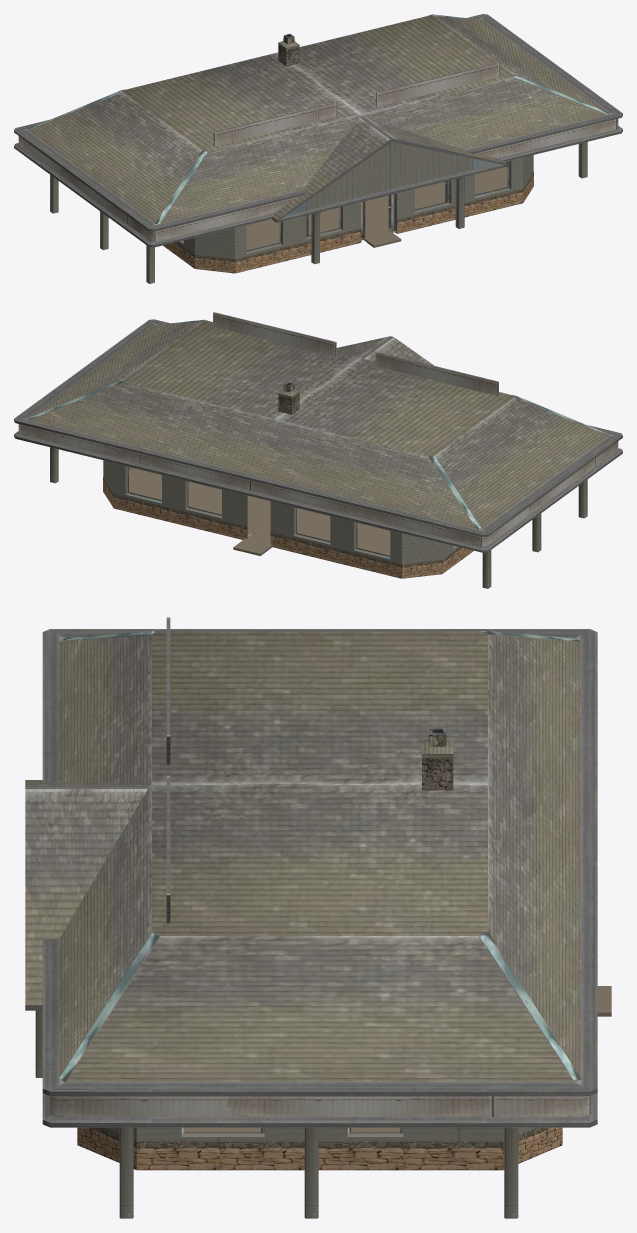
Rendered from rural-wood-4.gaps-v1.lod0.glb.
The picture shows the model from 3 angles, top to bottom: view 1: azimuth 30°, elevation 25°; view 2: azimuth 150°, elevation 25°; view 3: azimuth 270°, elevation 25°; orthographic projection. The views are drawn at different scales.
Visible parts, largest first — view 1: Rural_WoodenBuilding_4_Rural_Housetrim_1_0, Rural_WoodenBuilding_4_Rural_Walltrim_1_0, Rural_WoodenBuilding_4_Rural_Facade_FLR_2_0, Walkable floors and stairs; view 2: Rural_WoodenBuilding_4_Rural_Housetrim_1_0, Rural_WoodenBuilding_4_Rural_Facade_FLR_2_0, Rural_WoodenBuilding_4_Rural_Walltrim_1_0, Walkable floors and stairs; view 3: Rural_WoodenBuilding_4_Rural_Housetrim_1_0, Rural_WoodenBuilding_4_Rural_Facade_FLR_2_0, Rural_WoodenBuilding_4_Rural_Walltrim_1_0, Walkable floors and stairs.
Part boxes in pixels (bbox=[...]): Rural_WoodenBuilding_4_Rural_Housetrim_1_0: bbox=[14, 14, 622, 273]; Rural_WoodenBuilding_4_Rural_Walltrim_1_0: bbox=[50, 142, 587, 283]; Rural_WoodenBuilding_4_Rural_Facade_FLR_2_0: bbox=[18, 14, 618, 251]; Walkable floors and stairs: bbox=[246, 166, 507, 250]; Rural_WoodenBuilding_4_Rural_Housetrim_1_0: bbox=[14, 319, 622, 578]; Rural_WoodenBuilding_4_Rural_Facade_FLR_2_0: bbox=[18, 312, 618, 556]; Rural_WoodenBuilding_4_Rural_Walltrim_1_0: bbox=[50, 447, 587, 588]; Walkable floors and stairs: bbox=[129, 468, 390, 555]; Rural_WoodenBuilding_4_Rural_Housetrim_1_0: bbox=[25, 629, 597, 1170]; Rural_WoodenBuilding_4_Rural_Facade_FLR_2_0: bbox=[49, 617, 590, 1133]; Rural_WoodenBuilding_4_Rural_Walltrim_1_0: bbox=[35, 1010, 535, 1218]; Walkable floors and stairs: bbox=[181, 1127, 402, 1133].
Bounding box in the file's own units: 27.73 × 7.64 × 14.85.
6 materials, 3 textured.
